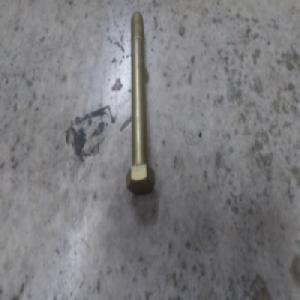Bolt: (126, 10, 155, 194)
